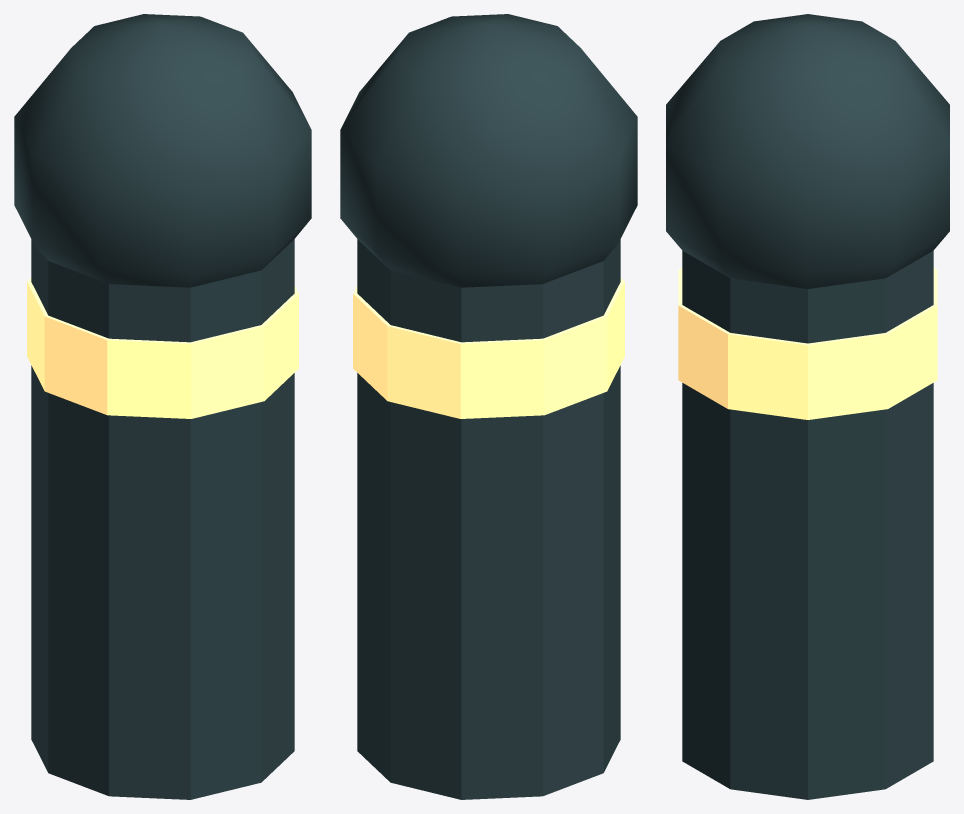
File: bollard.glb
The picture shows the model from 3 angles, left to right: view 1: azimuth 30°, elevation 25°; view 2: azimuth 150°, elevation 25°; view 3: azimuth 270°, elevation 25°; orthographic projection.
Visible parts, largest first — view 1: bollard; view 2: bollard; view 3: bollard.
Part boxes in pixels (box(x1,y1,x2,y2)): bollard: box(14, 14, 311, 799); bollard: box(340, 14, 637, 799); bollard: box(666, 14, 949, 799).
Size of the model in its own units: 0.3614 by 0.96 by 0.3437.
